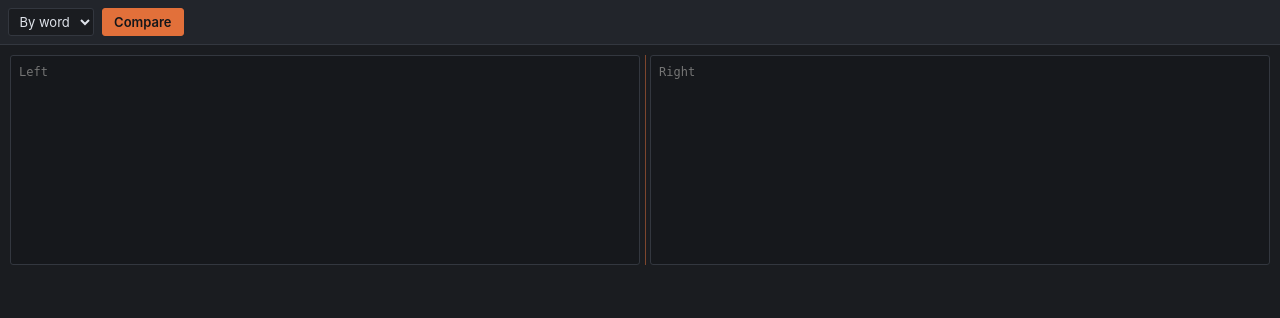
Test case: DiffTab › renders a diff with change counts
In the text box named "left text": [325, 160] box [10,55,640,265], type "the quick"
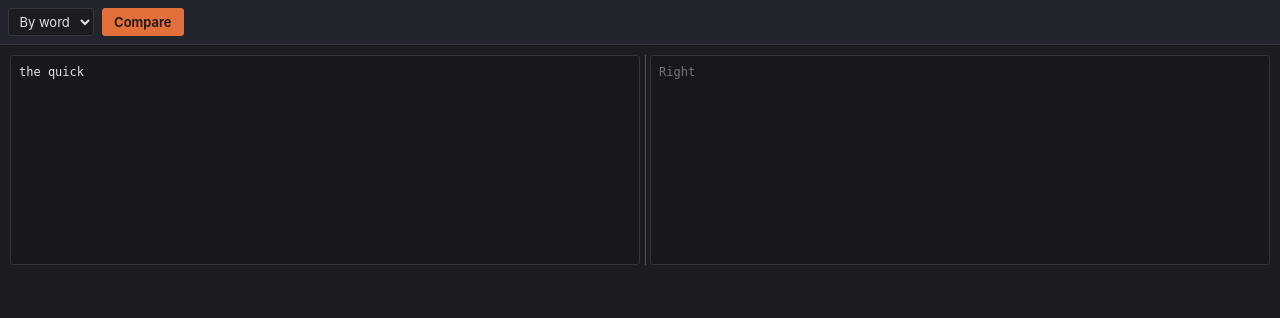
In the text box named "right text": [960, 160] box [650,55,1270,265], type "the slow extra"
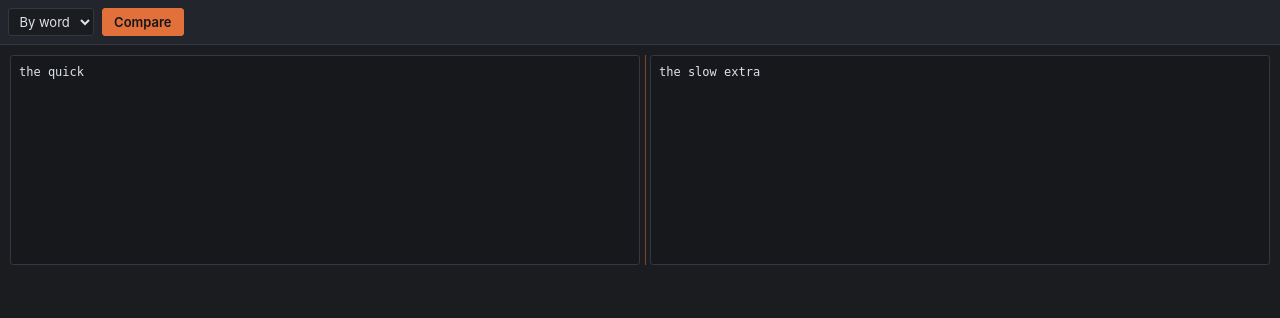
Click the button "Compare": [143, 22] box [102,8,184,36]
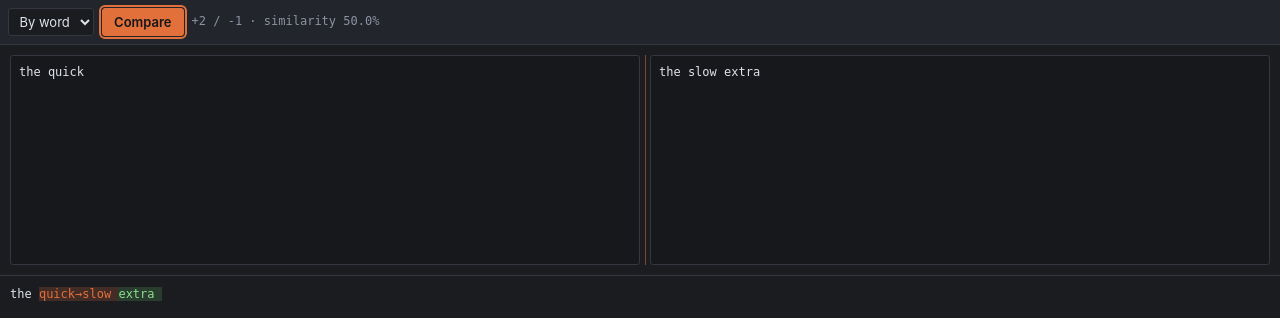
Now the element with test id "diff" shows "extra", box [118,287,154,301]
